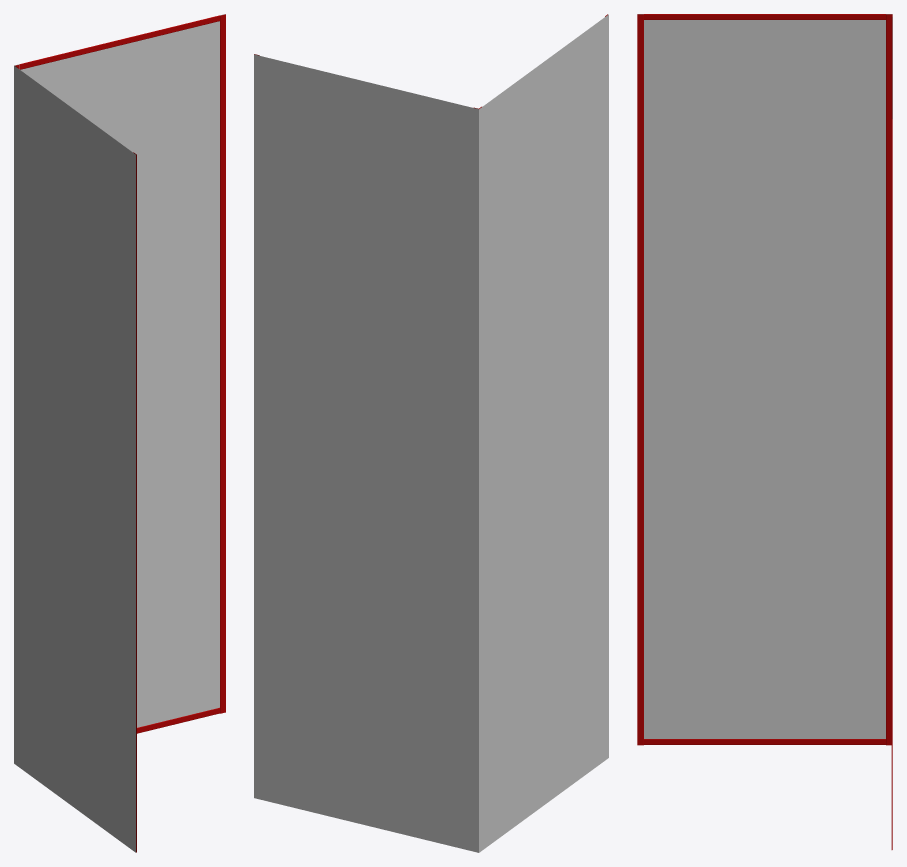
The model's file is Wall02CornerInt.fbx.
The picture shows the model from 3 angles, left to right: view 1: azimuth 30°, elevation 25°; view 2: azimuth 150°, elevation 25°; view 3: azimuth 270°, elevation 25°; orthographic projection. The views are drawn at different scales.
Parts seen in each view (by area): view 1: Wall02CornerInt; view 2: Wall02CornerInt; view 3: Wall02CornerInt.
Part boxes in pixels (left/top/right/bottom): Wall02CornerInt: left=14, top=14, right=225, bottom=852; Wall02CornerInt: left=254, top=14, right=608, bottom=852; Wall02CornerInt: left=637, top=14, right=892, bottom=849.
Bounding box in the file's own units: 95 × 300 × 95.
